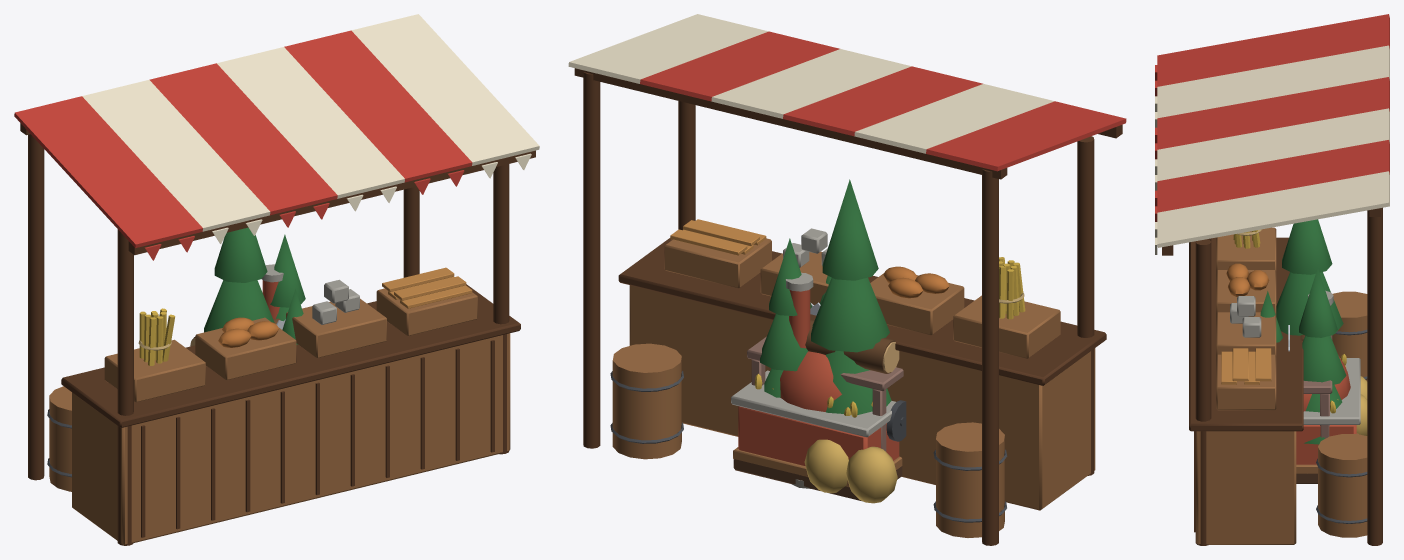
Rendered from props.glb.
The picture shows the model from 3 angles, left to right: view 1: azimuth 30°, elevation 25°; view 2: azimuth 150°, elevation 25°; view 3: azimuth 270°, elevation 25°; orthographic projection. The views are drawn at different scales.
Parts seen in each view (by area): view 1: prop_market, prop_woodlot, prop_oven; view 2: prop_market, prop_woodlot, prop_oven, prop_sawmill, prop_field; view 3: prop_market, prop_woodlot, prop_oven, prop_sawmill, prop_field.
Boxes of the visible parts, bbox=[...] form: prop_market: bbox=[14, 14, 539, 545]; prop_woodlot: bbox=[204, 227, 305, 344]; prop_oven: bbox=[261, 264, 283, 318]; prop_market: bbox=[568, 14, 1126, 545]; prop_woodlot: bbox=[760, 179, 891, 414]; prop_oven: bbox=[731, 272, 899, 465]; prop_sawmill: bbox=[747, 302, 906, 451]; prop_field: bbox=[733, 373, 902, 501]; prop_market: bbox=[1155, 14, 1389, 545]; prop_woodlot: bbox=[1260, 219, 1346, 444]; prop_oven: bbox=[1296, 290, 1360, 464]; prop_sawmill: bbox=[1288, 325, 1332, 438]; prop_field: bbox=[1296, 354, 1358, 483].
Bounding box in the file's own units: 3.12 × 2.67 × 1.64.
